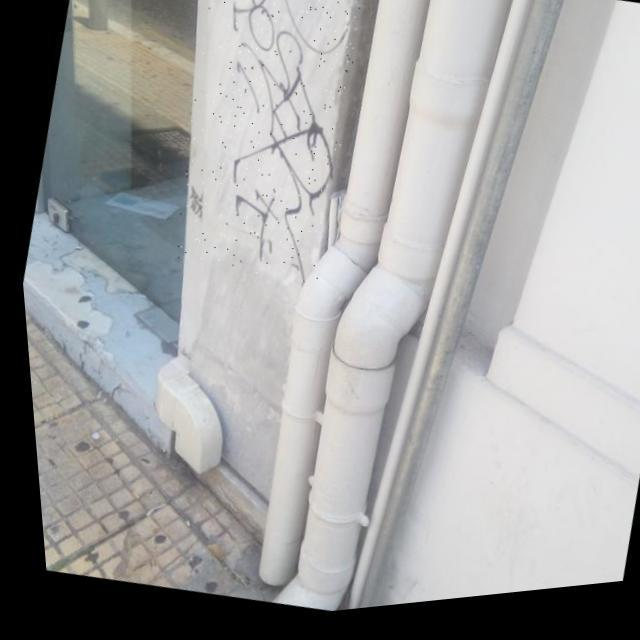-: (144, 0, 389, 300)
